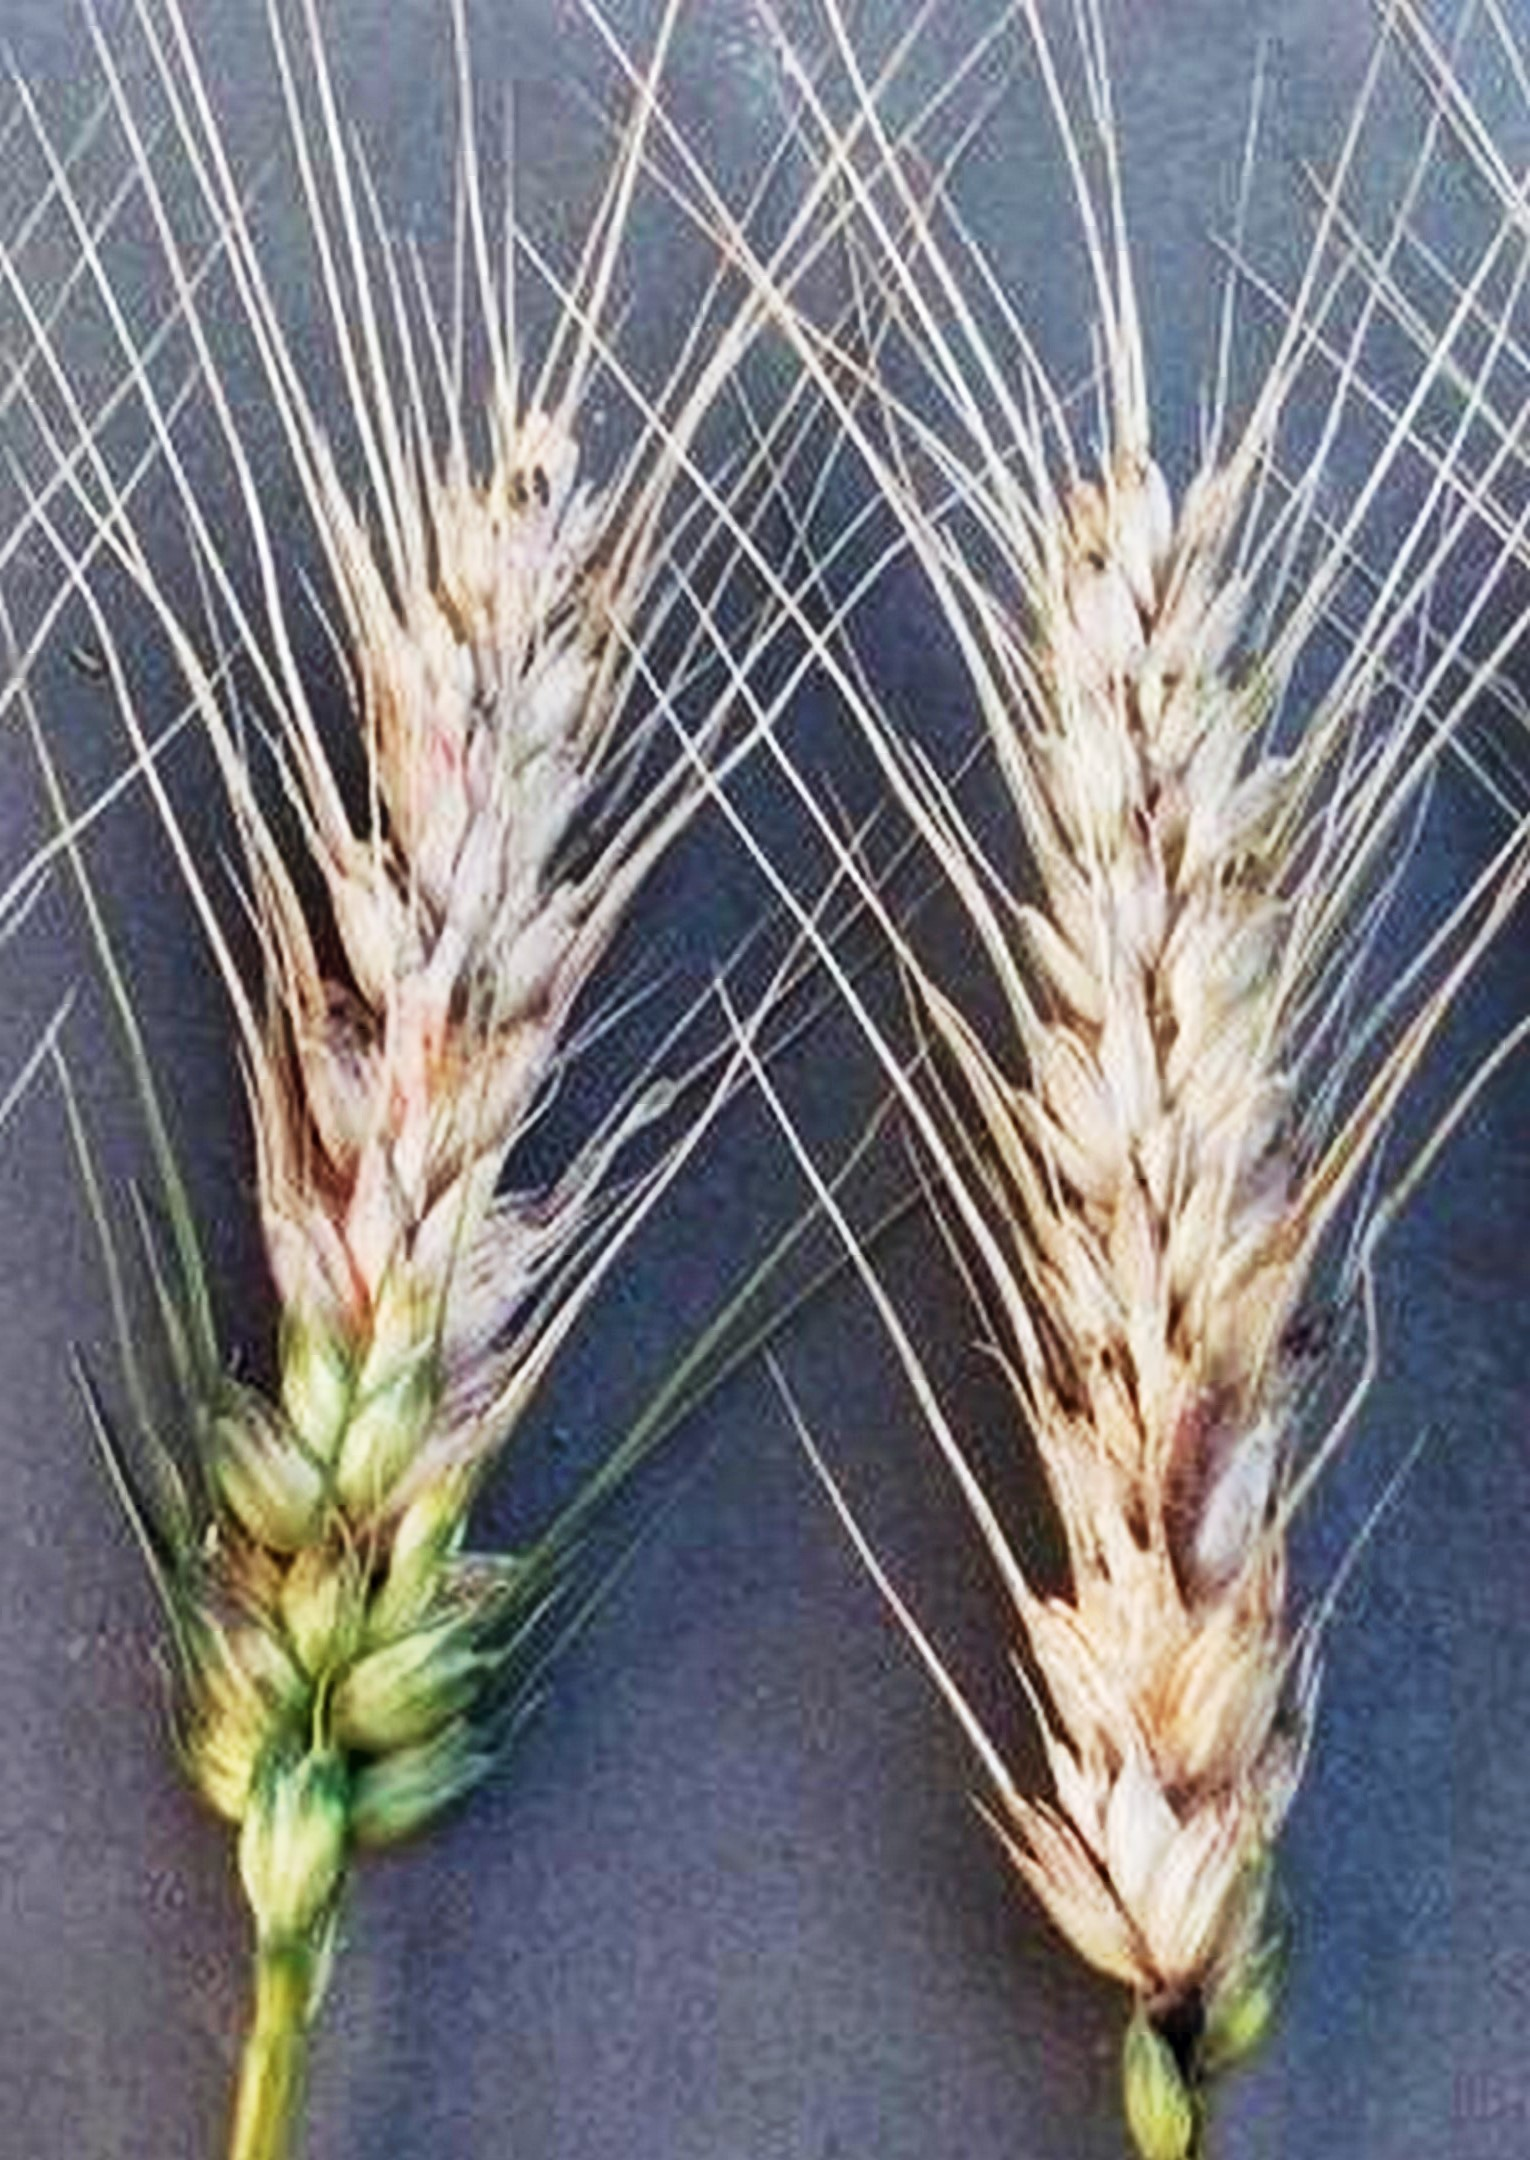Wheat scab: (854, 410, 1366, 2059), (214, 338, 682, 1951)
